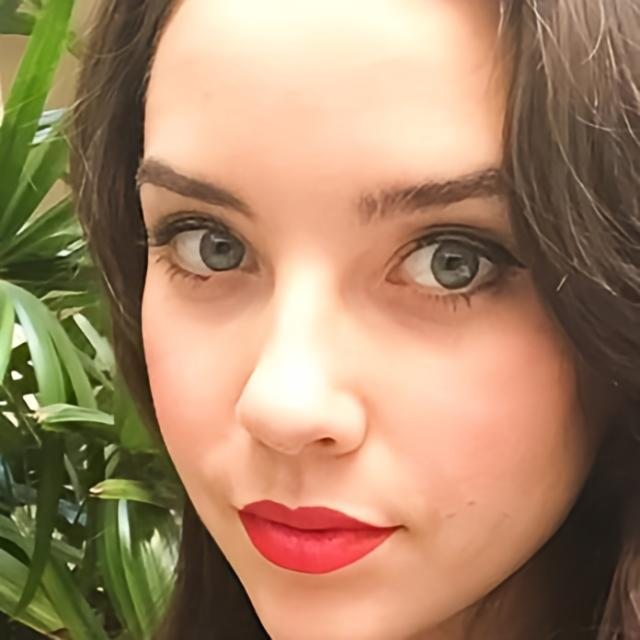neutral: (130, 0, 621, 640)
